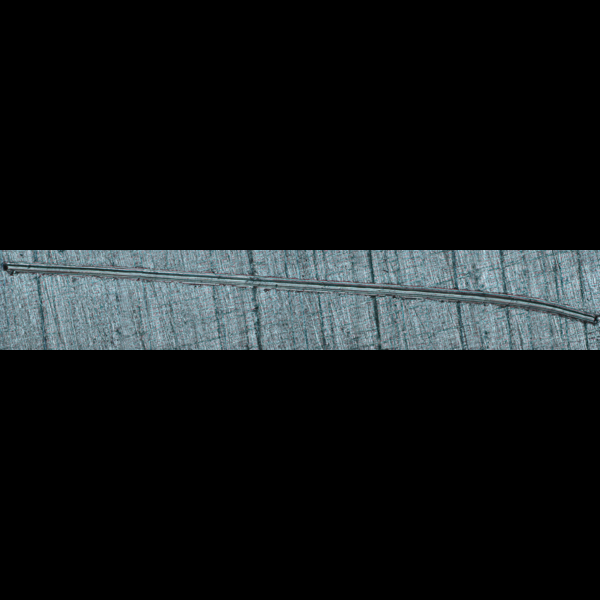d: (0, 258, 599, 331)
